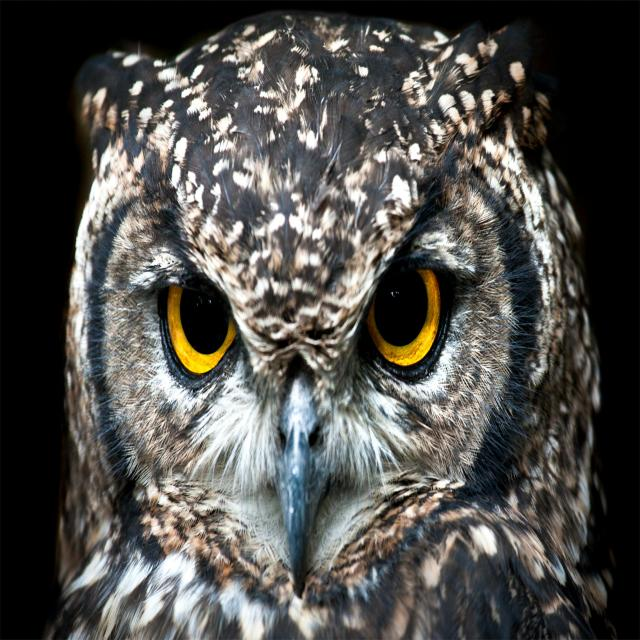Owl: (33, 0, 623, 640)
